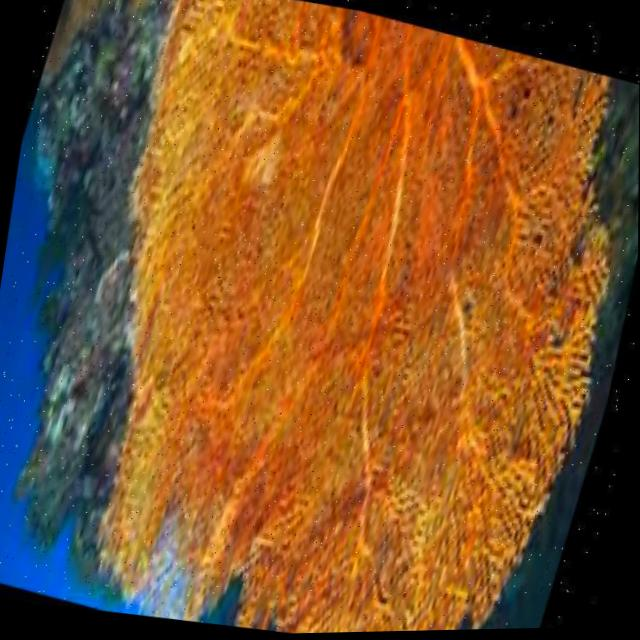Healthy Coral: (48, 0, 622, 639)
